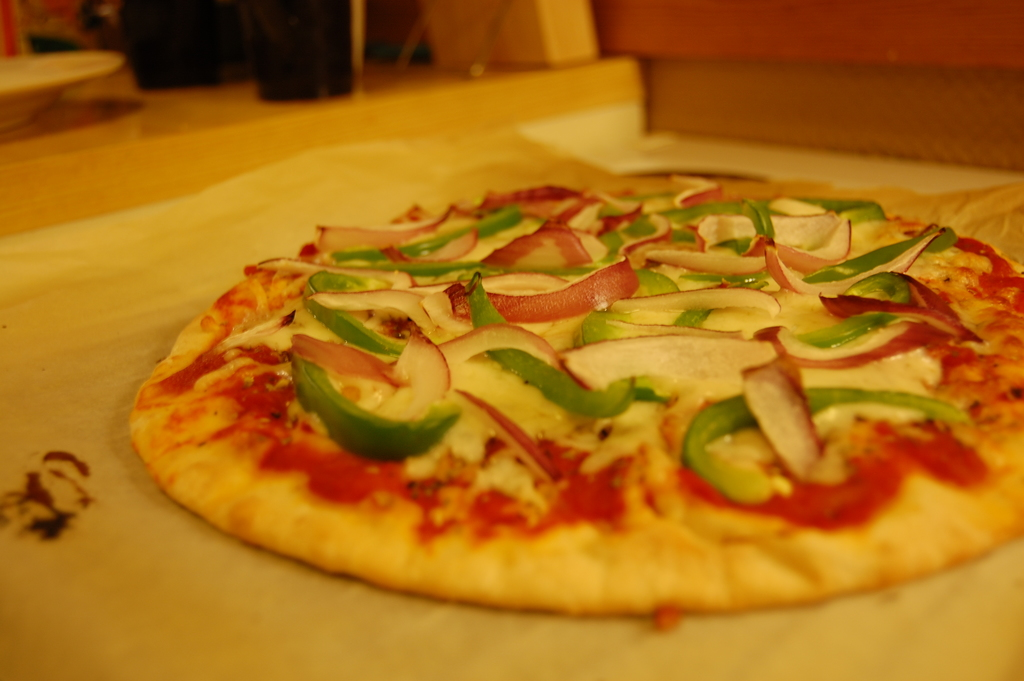Pizza: (122, 175, 1023, 612)
